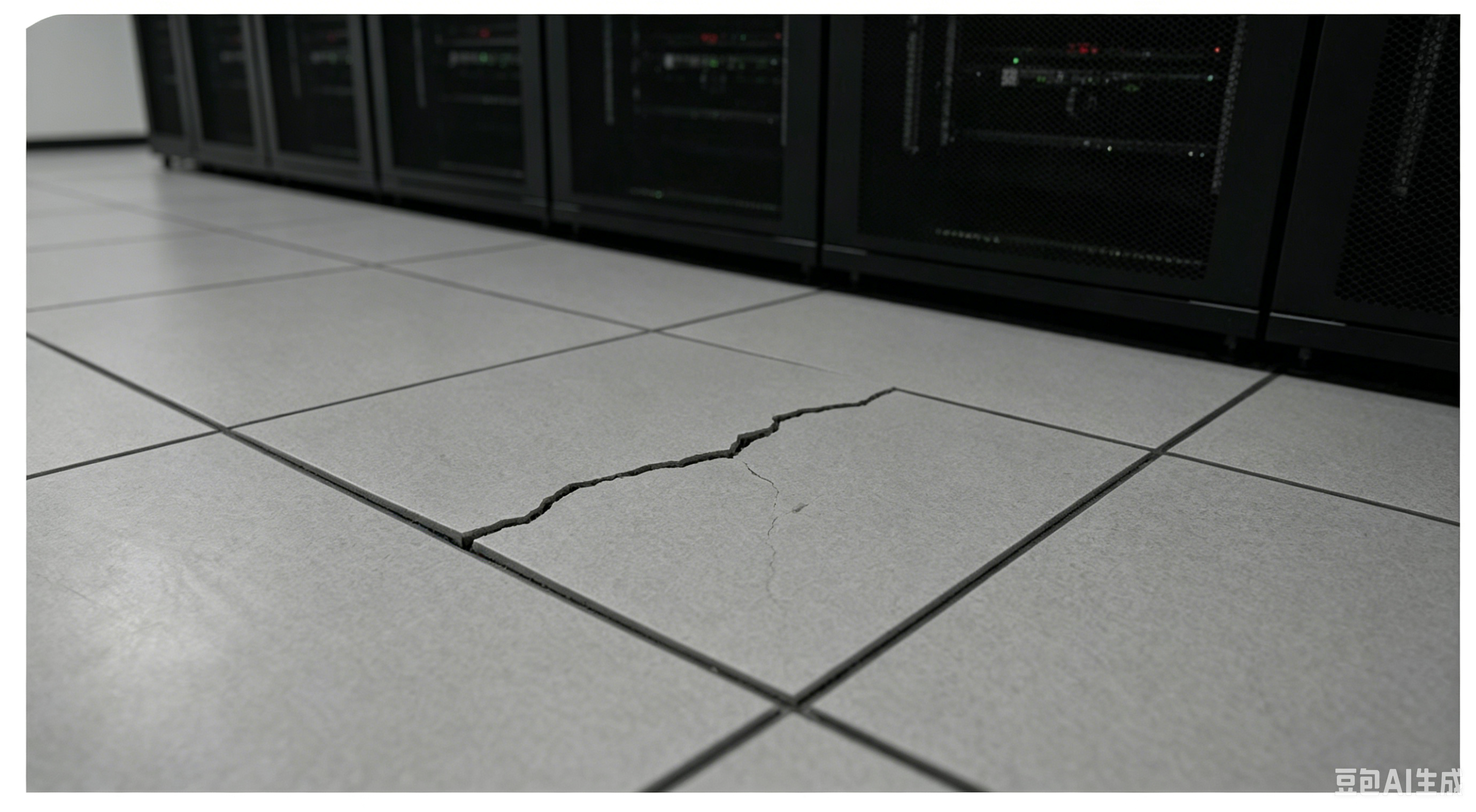floor_defect: (443, 471, 656, 549), (737, 482, 796, 646), (743, 384, 902, 430), (631, 432, 778, 477)
